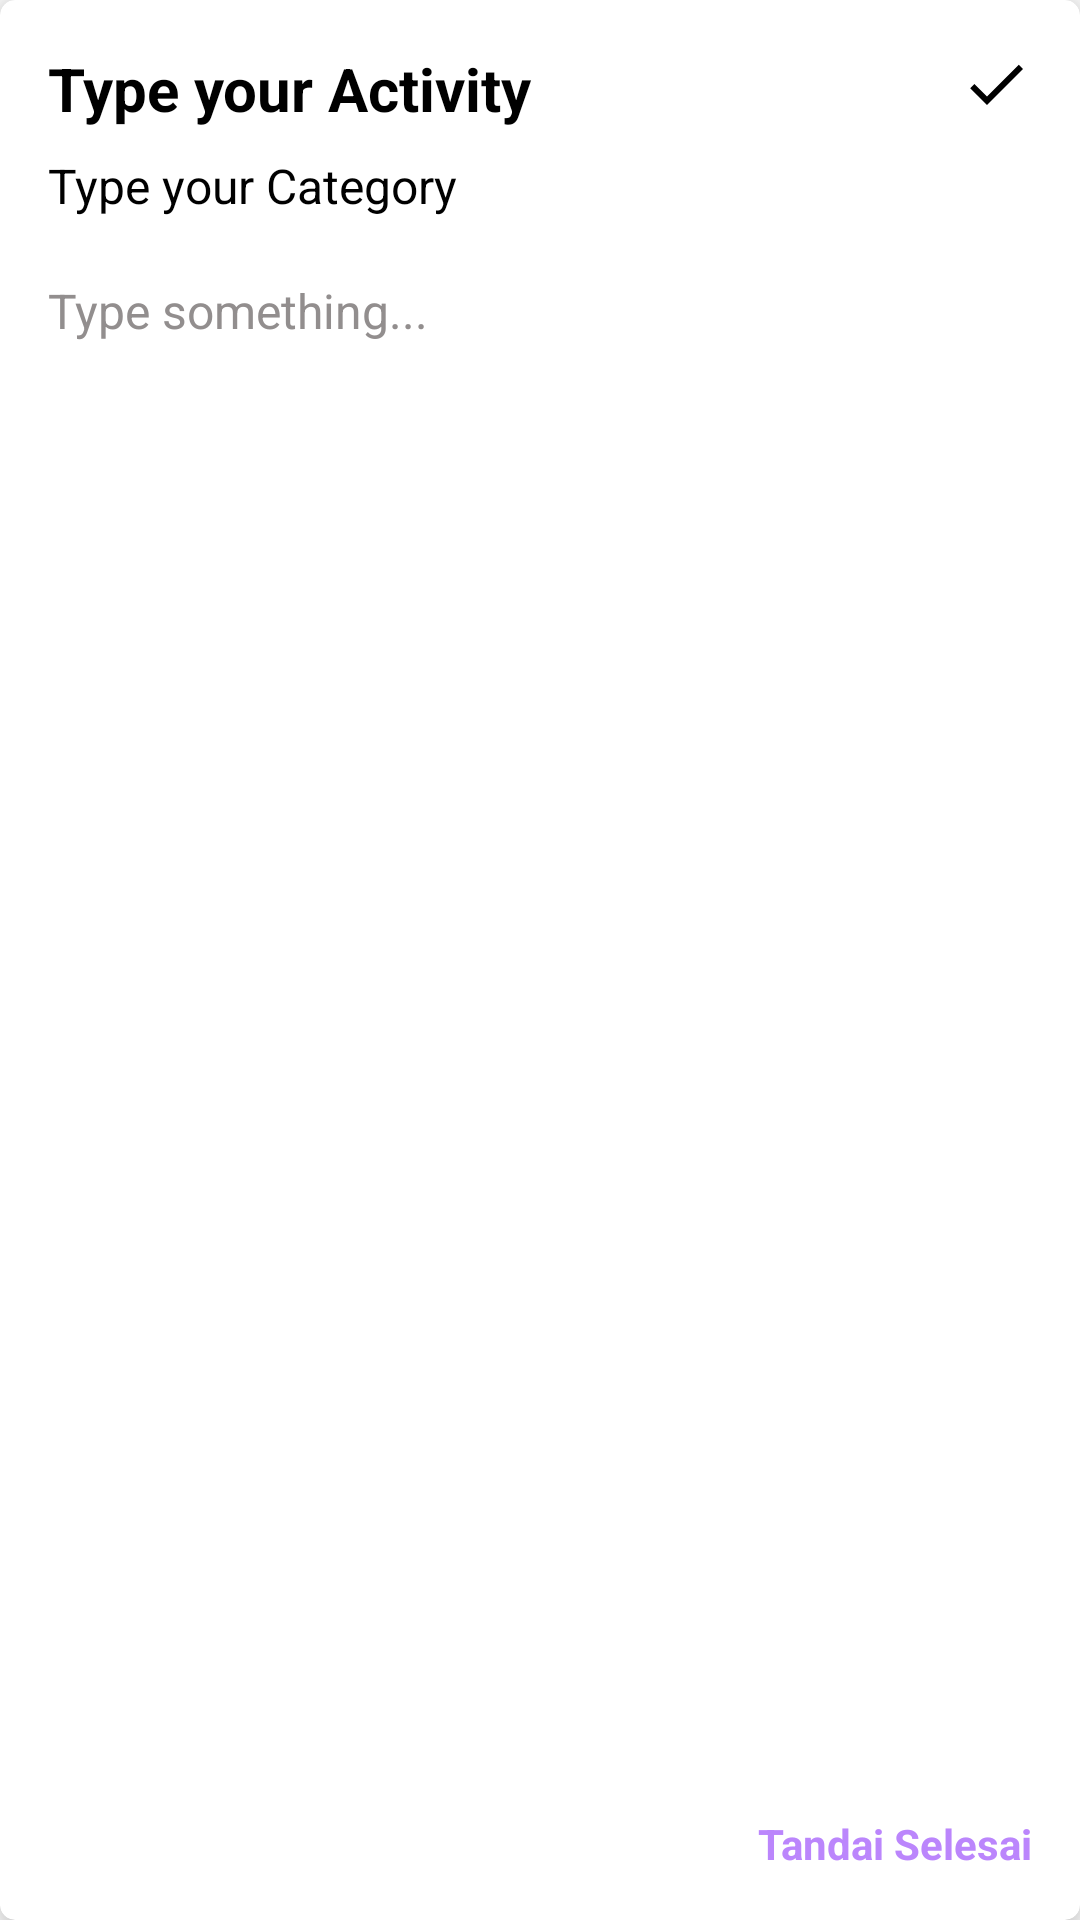

Screen size 1080w x 1920h. Icon name, then its box in pixels as (x1, y1, x2, y2):
done: (970, 65, 1023, 105)
